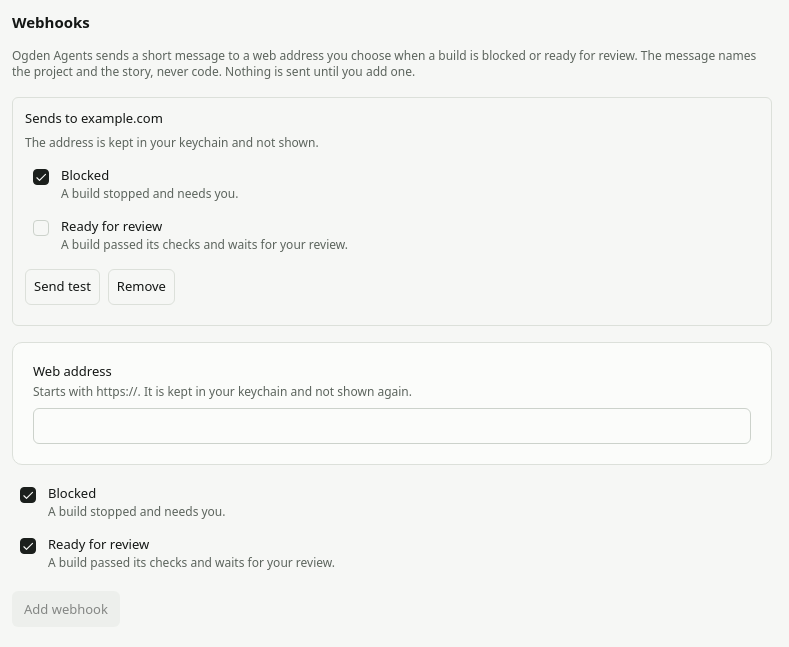
it: webhooks in Settings, Notifications (story 11.4) › Send test shows its HTTP result inline, success or failure in plain words
Click the button with test id "webhook-test".
click(62, 287)  # box [25,269,100,305]
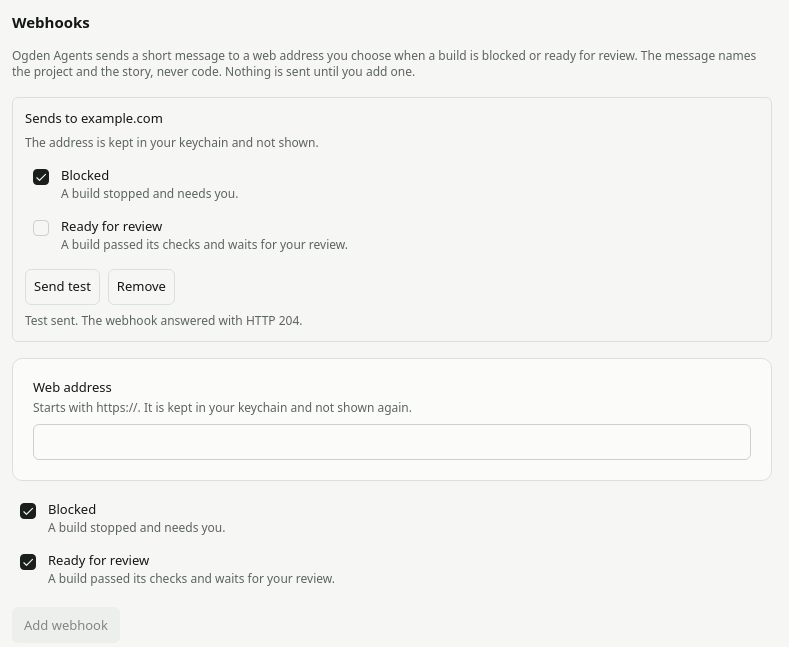
Result: the text with test id "webhook-test-result" reads "Test sent. The webhook answered with HTTP 204." at [25,312,303,329]
Click the button with test id "webhook-test".
click(62, 287)  # box [25,269,100,305]
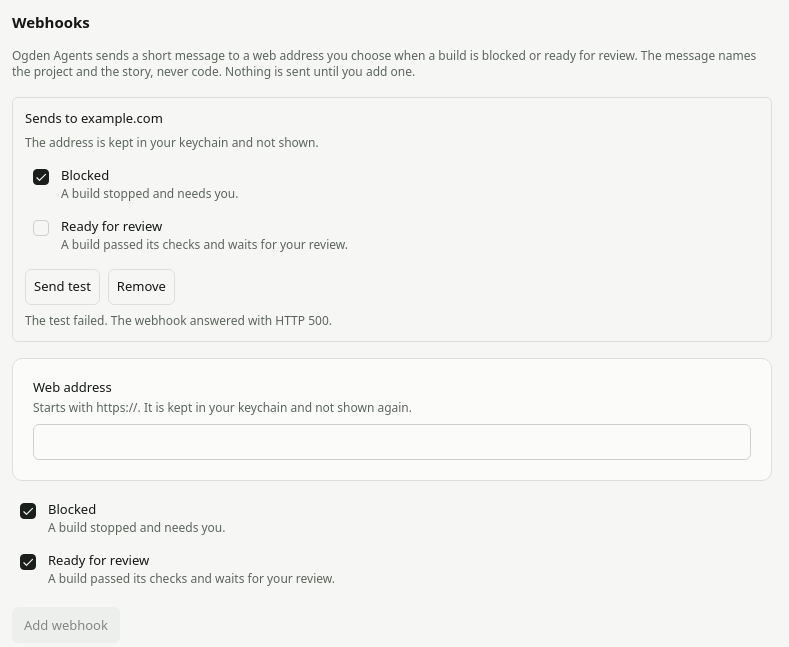
Result: the text with test id "webhook-test-result" reads "The test failed. The webhook answered with HTTP 500." at [25,312,332,329]
Click the button with test id "webhook-test".
click(62, 287)  # box [25,269,100,305]
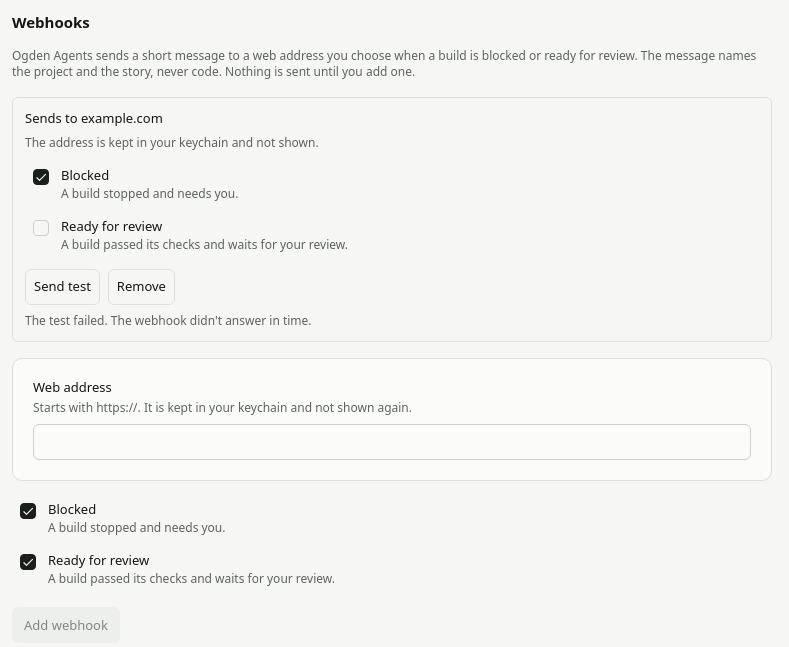
Result: the text with test id "webhook-test-result" reads "The test failed. The webhook didn't answer in time." at [25,312,312,329]
